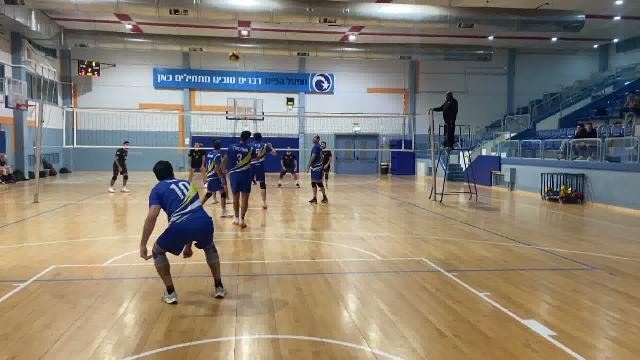ball: (225, 51, 238, 63)
